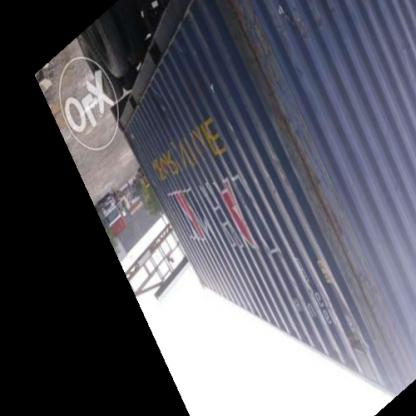Damage: (306, 197, 403, 377), (235, 17, 315, 199)
